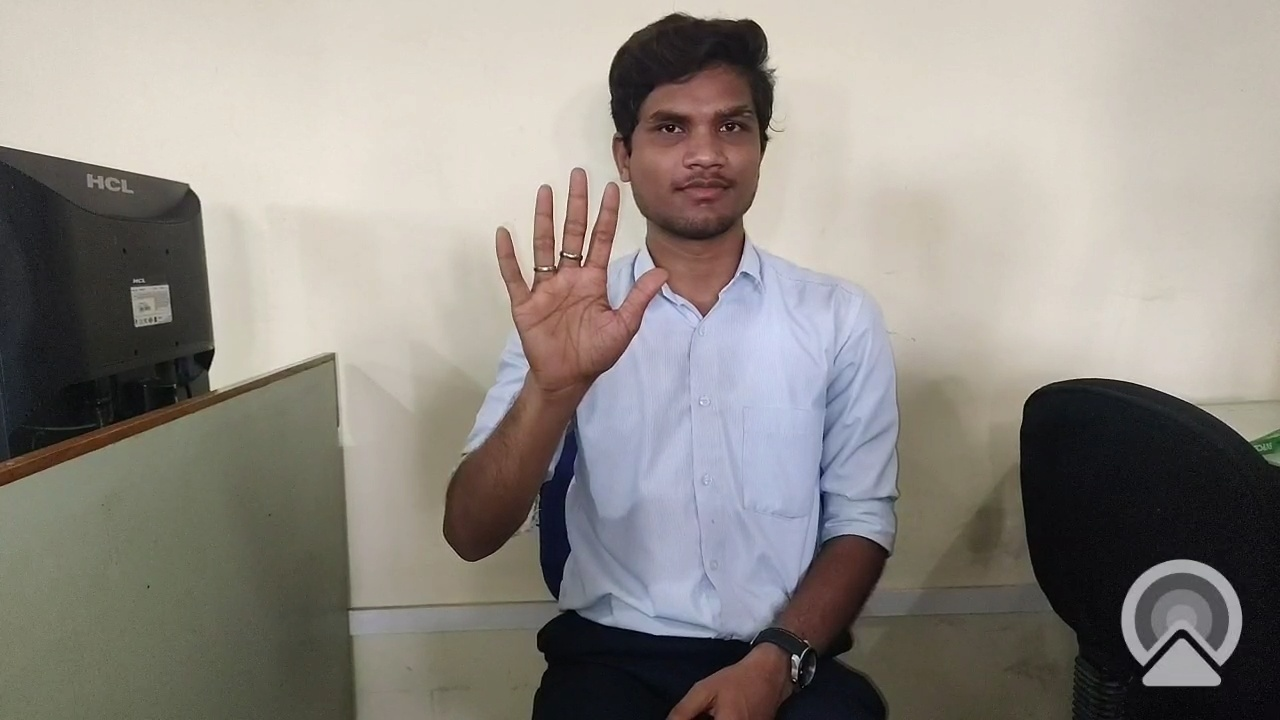Hello: (475, 161, 676, 402)
